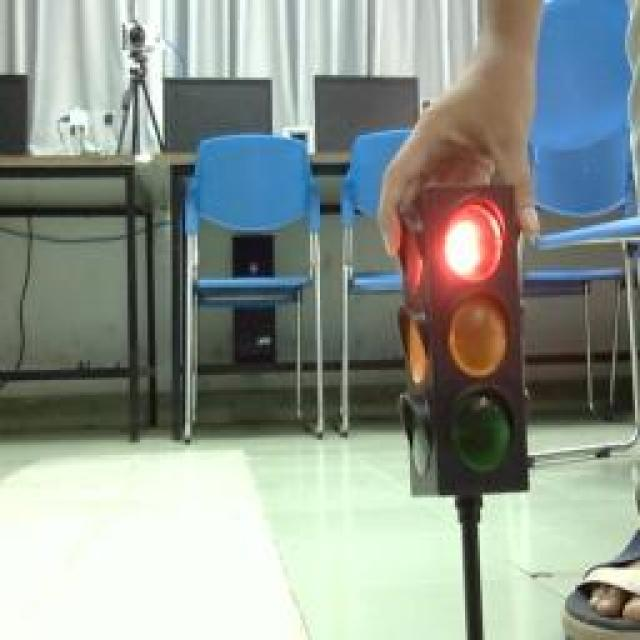-: (440, 194, 512, 286)
